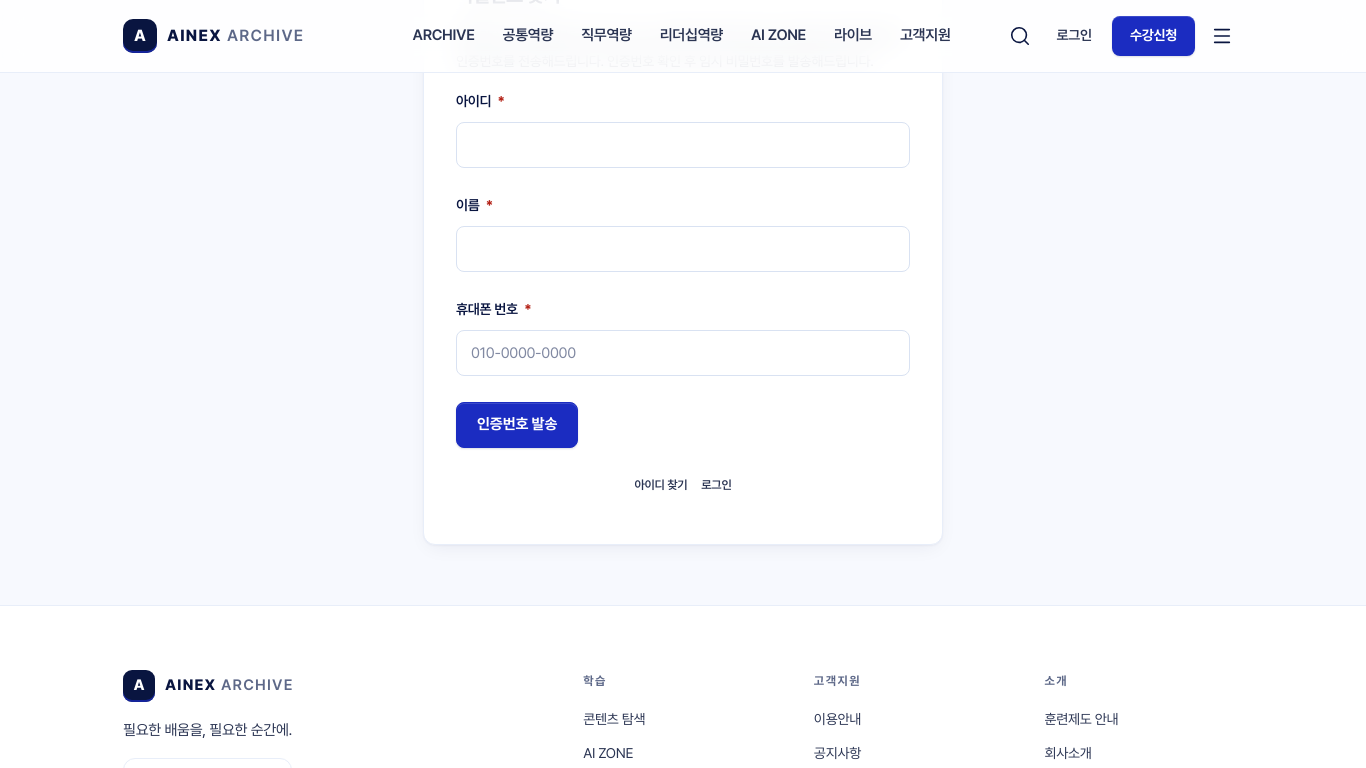
Test case: member pages › find password: 인증번호 step, then the temporary password by SMS
This screenshot has width=1366, height=768.
(page scrolled)
Step 1. Click the button "인증번호 발송" → (517, 424), box [456, 402, 578, 448]
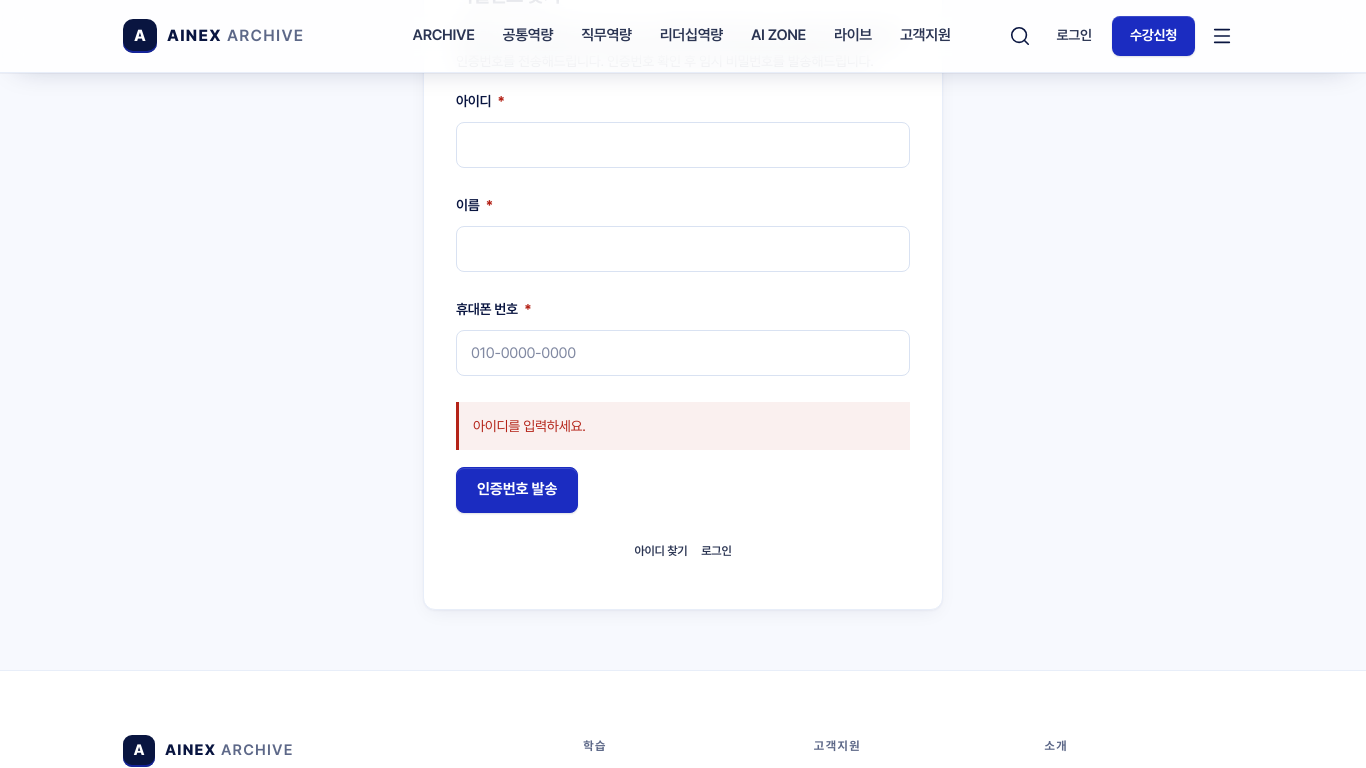
Expected: the text "아이디를 입력하세요." is shown, [456, 402, 910, 450]
Step 2. Type "hong01" into the field labelled "아이디 *" → (683, 145), box [456, 122, 910, 168]
Step 3. Type "홍길동" into the field labelled "이름 *" → (683, 249), box [456, 226, 910, 272]
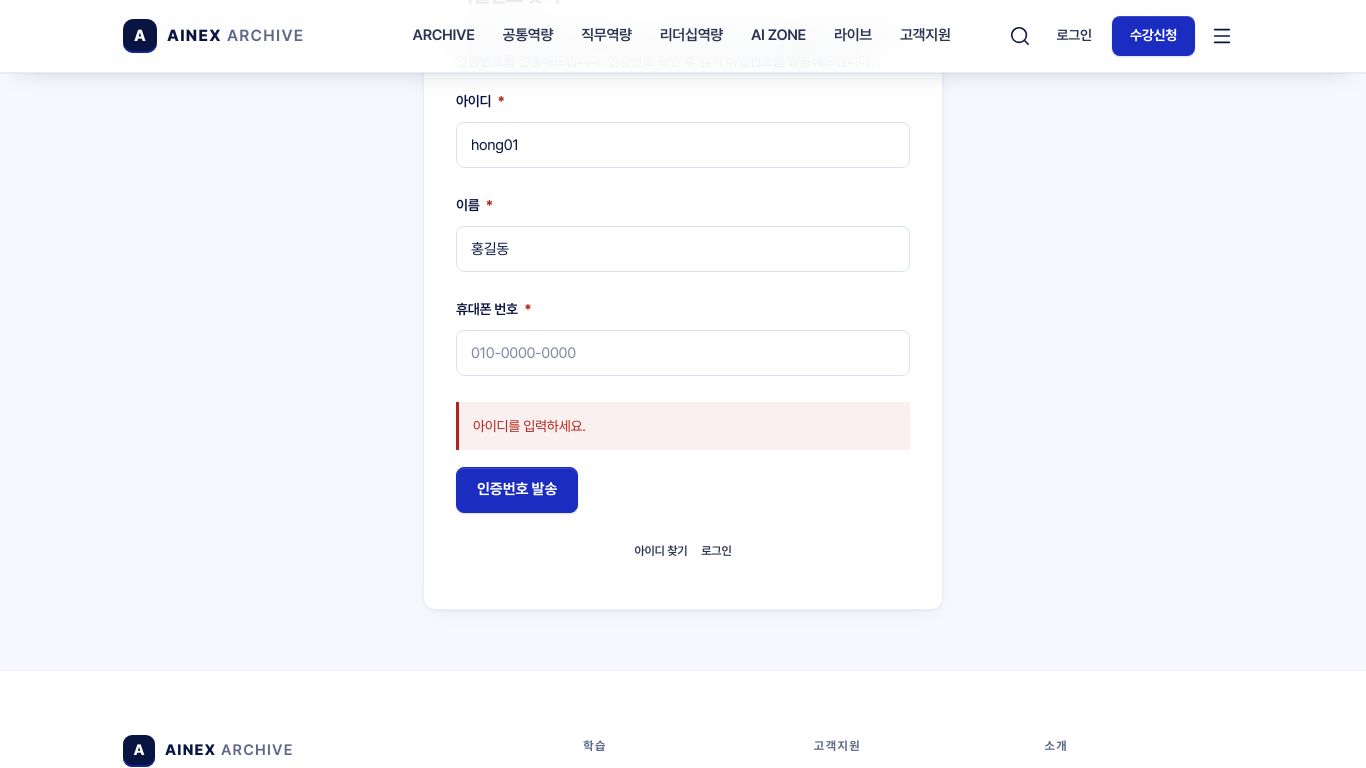
Step 4. Type "010-1234-5678" into the field labelled "휴대폰 번호 *" → (683, 352), box [456, 330, 910, 376]
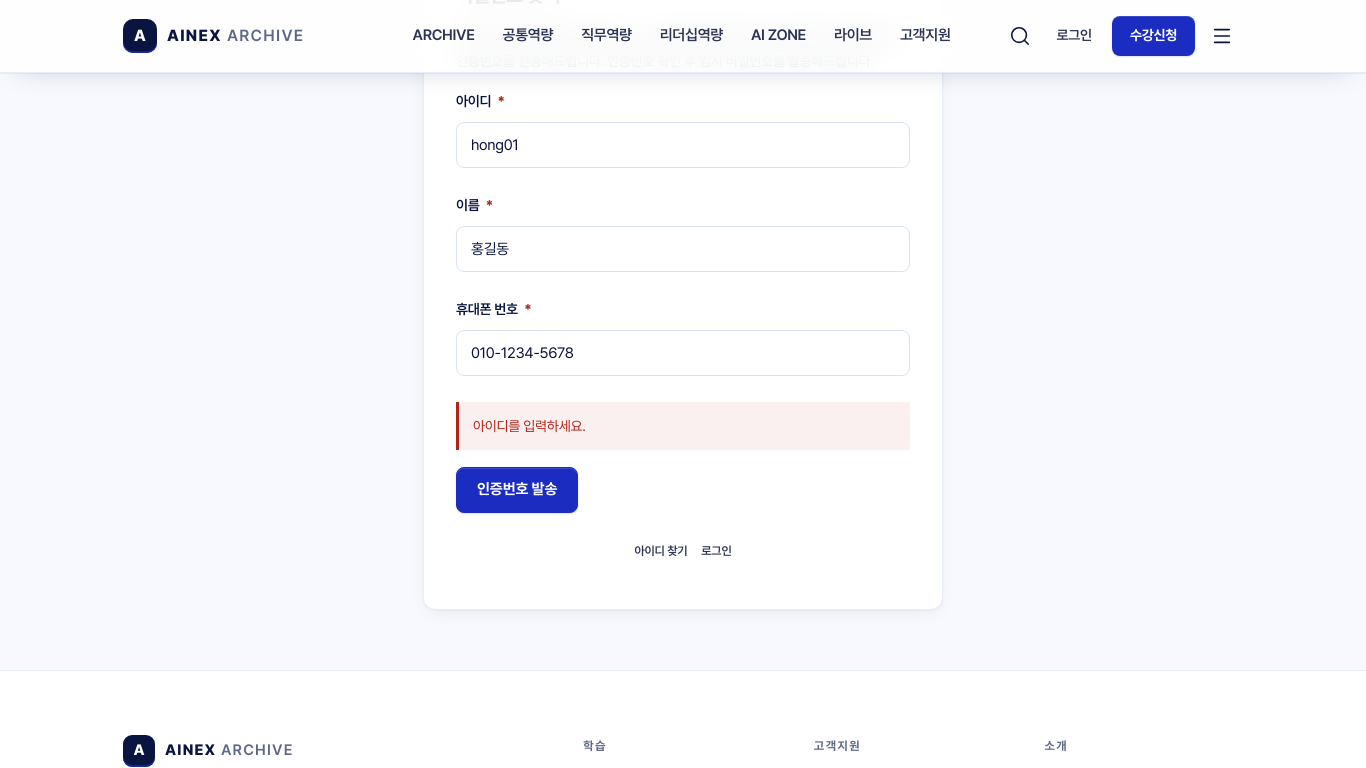
Step 5. Click the button "인증번호 발송" → (517, 490), box [456, 467, 578, 513]
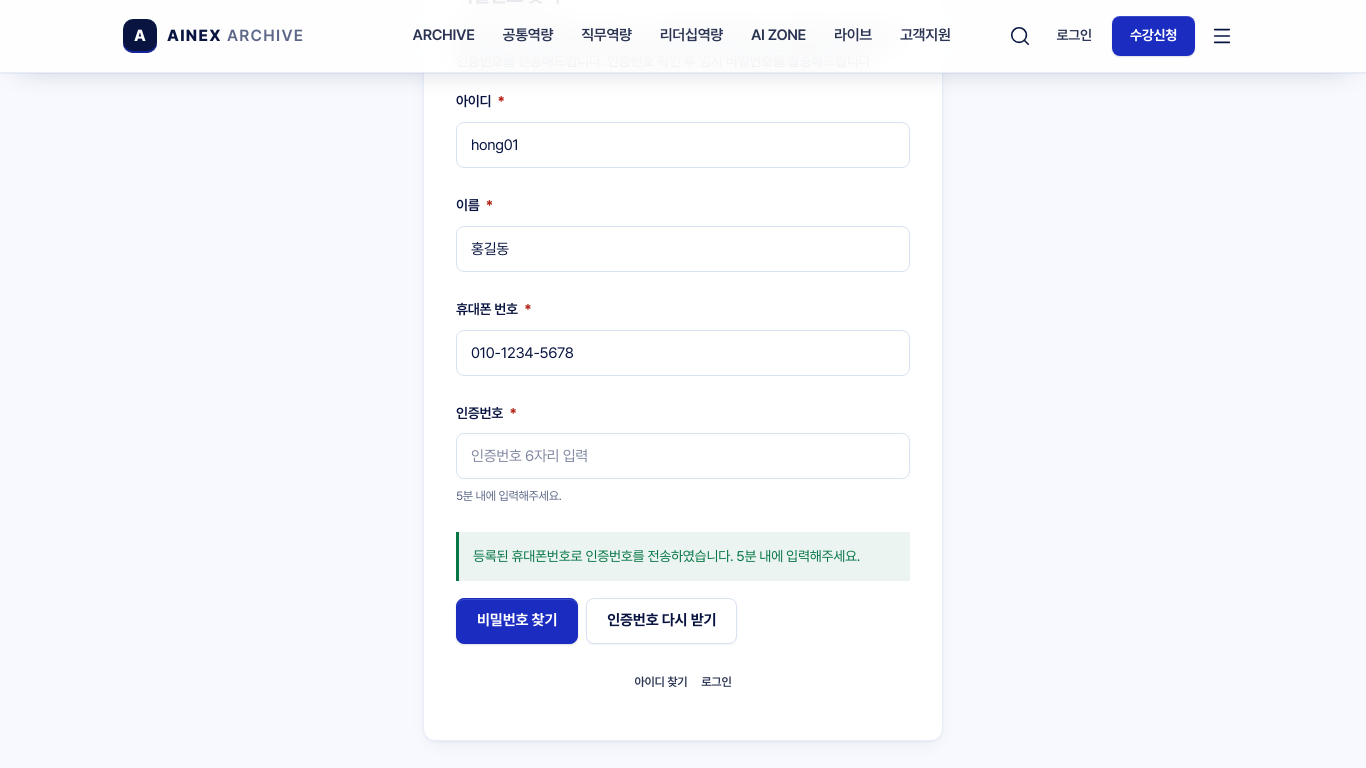
Expected: the field labelled "아이디 *" is disabled, [456, 122, 910, 168]
Step 6. Type "123456" into the field labelled "인증번호 *" → (683, 456), box [456, 433, 910, 479]
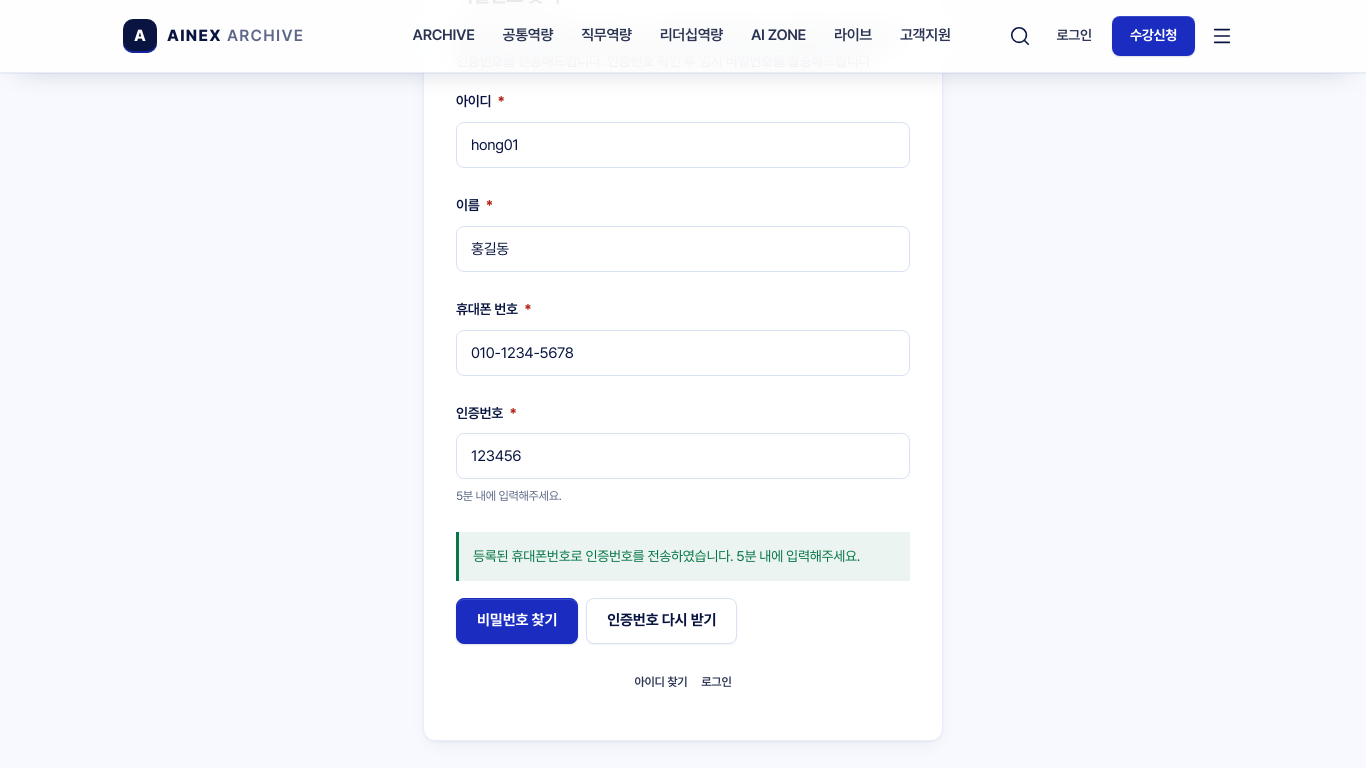
Step 7. Click the button "비밀번호 찾기" → (517, 621), box [456, 598, 578, 644]
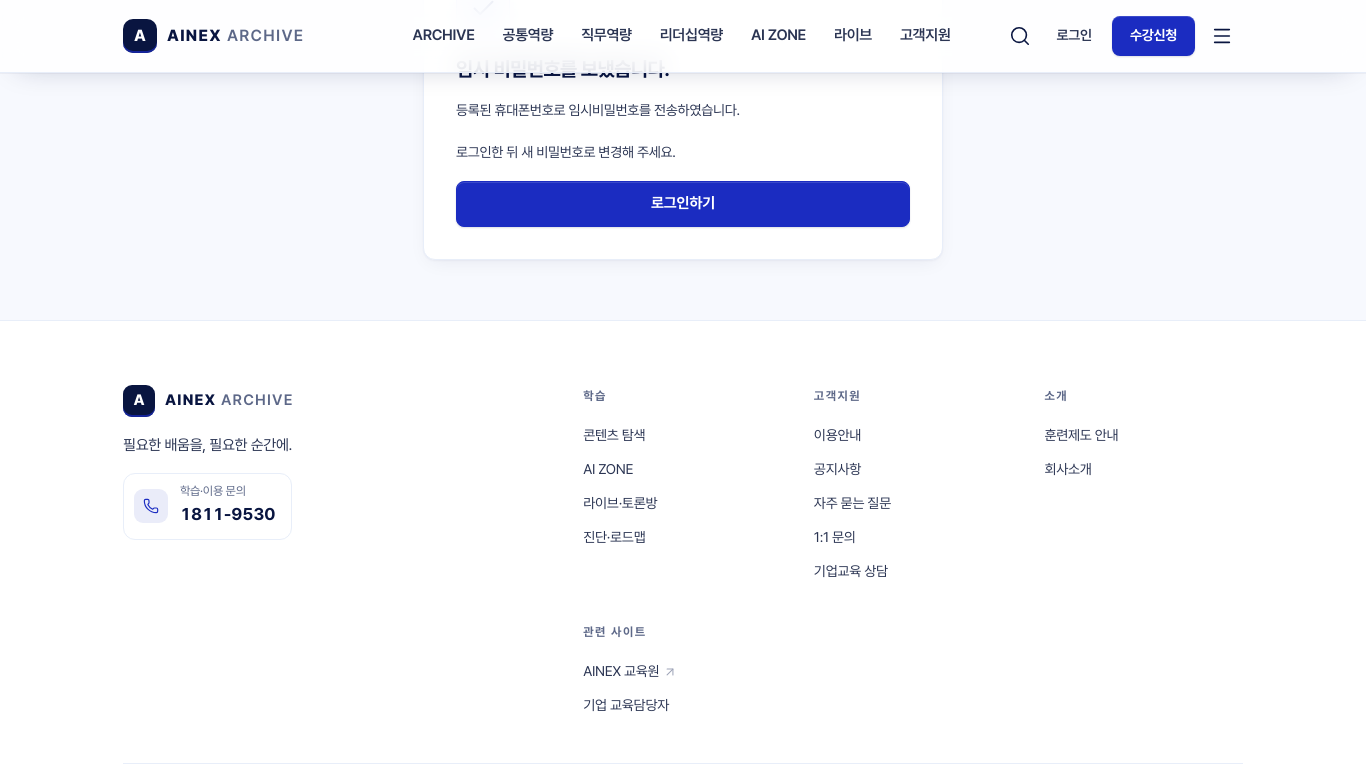
Expected: the text "등록된 휴대폰번호로 임시비밀번호를 전송하였습니다." is shown, [456, 102, 740, 118]
